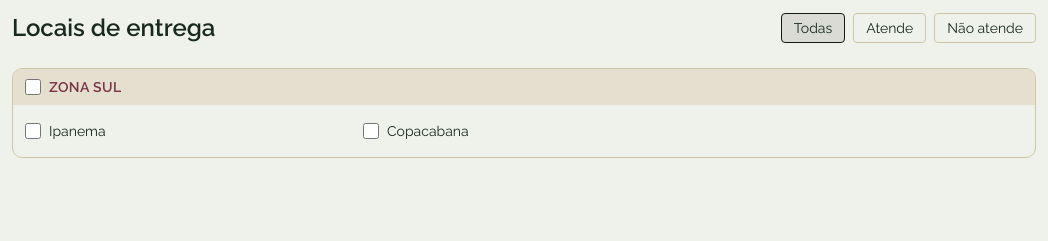
Test: EntregasPage › reloads and shows an error when part of a region batch fails
Expected: the text "Ipanema" is shown, [49,121,106,141]
Click the checkbox named "Marcar toda a região Zona Sul": (33, 87) [25,79,41,95]
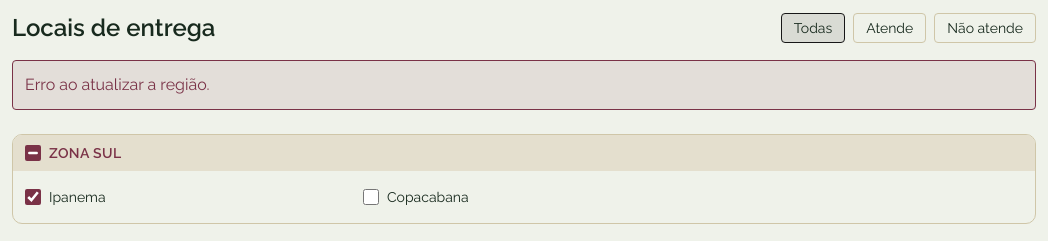
Expected: the checkbox named "Atendida Copacabana" is not checked, [363,189,379,205]
Expected: the message reads "Erro ao atualizar a região.", [25,75,209,94]
Expected: the checkbox named "Atendida Ipanema" is checked, [25,189,41,205]
